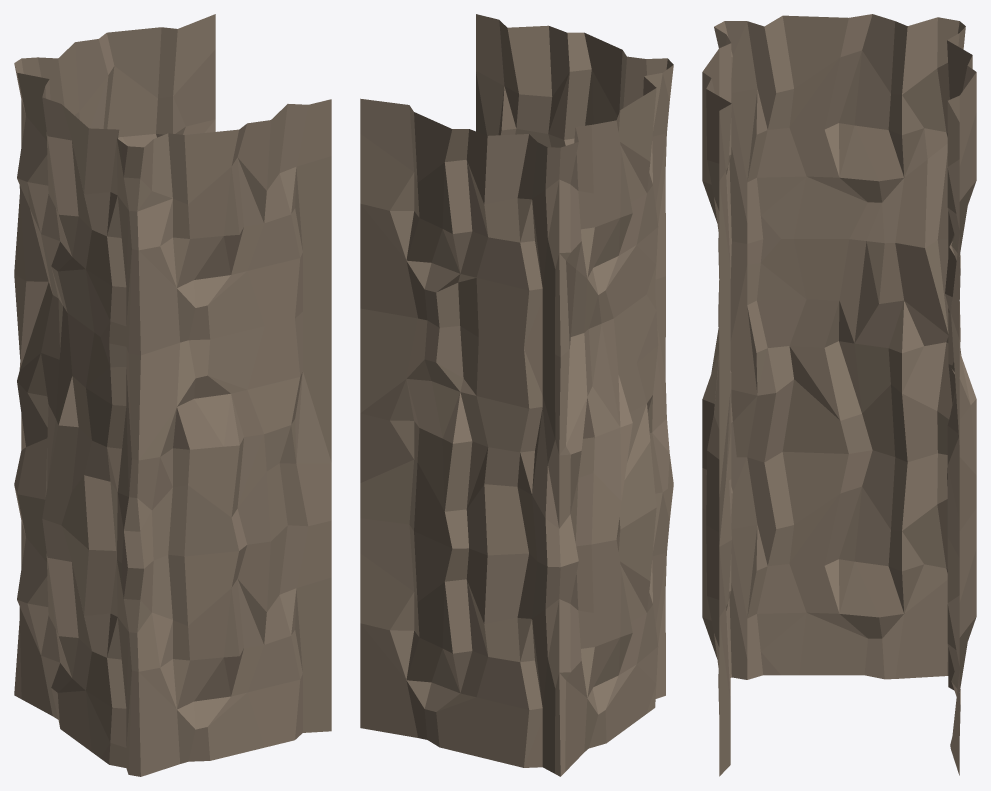
Rendered from ER_Terrain_3x1_Dirt_3Sided_001_A.fbx.
3 renders of one model, left to right at view 1: azimuth 30°, elevation 25°; view 2: azimuth 150°, elevation 25°; view 3: azimuth 270°, elevation 25°, orthographic. The views are drawn at different scales.
Parts seen in each view (by area): view 1: ER_Terrain_3x1_Dirt_3Sided_001_A; view 2: ER_Terrain_3x1_Dirt_3Sided_001_A; view 3: ER_Terrain_3x1_Dirt_3Sided_001_A.
Boxes of the visible parts, x1,y1,x2,y2 form: ER_Terrain_3x1_Dirt_3Sided_001_A: [14, 14, 331, 776]; ER_Terrain_3x1_Dirt_3Sided_001_A: [360, 14, 673, 776]; ER_Terrain_3x1_Dirt_3Sided_001_A: [702, 14, 976, 776].
Size of the model in its own units: 1.07 by 3 by 1.14.
